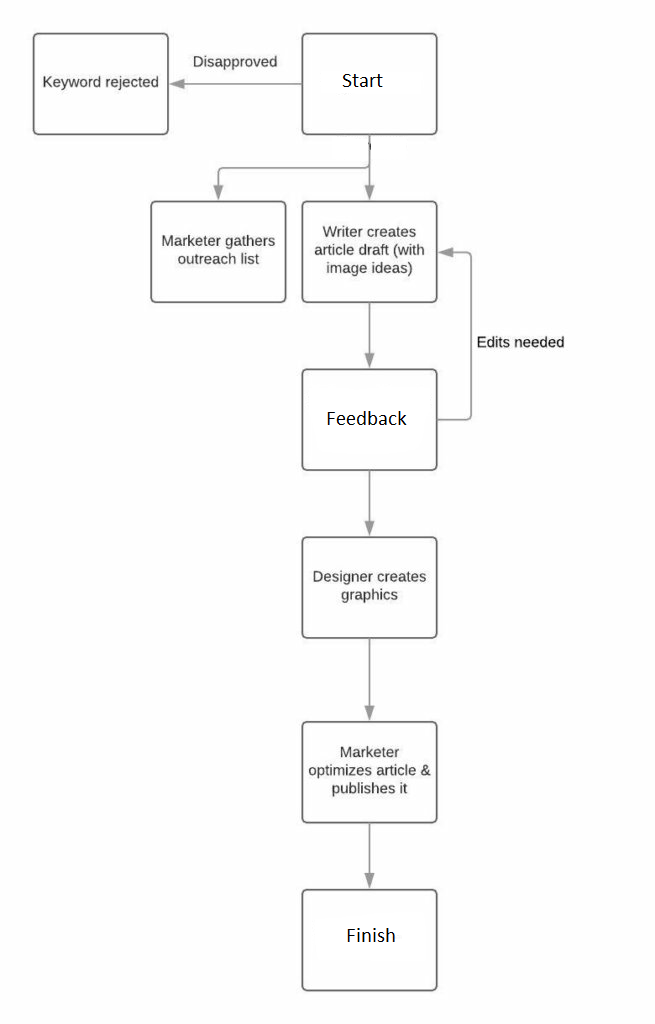arrow: (438, 242, 479, 425), (210, 160, 368, 202), (173, 72, 298, 91), (360, 641, 379, 717), (359, 305, 381, 367), (360, 135, 379, 202), (359, 825, 379, 888), (360, 471, 379, 535)
process: (295, 717, 443, 832), (26, 28, 174, 142), (293, 27, 443, 139), (293, 532, 443, 644), (296, 361, 443, 475), (296, 883, 442, 996), (146, 197, 292, 307), (296, 197, 442, 307)
text: (306, 735, 434, 802), (310, 216, 431, 282), (309, 561, 431, 608), (159, 227, 281, 272), (38, 69, 162, 96), (321, 405, 413, 432), (187, 49, 285, 74), (473, 332, 570, 357), (342, 921, 399, 947), (332, 71, 387, 91)
